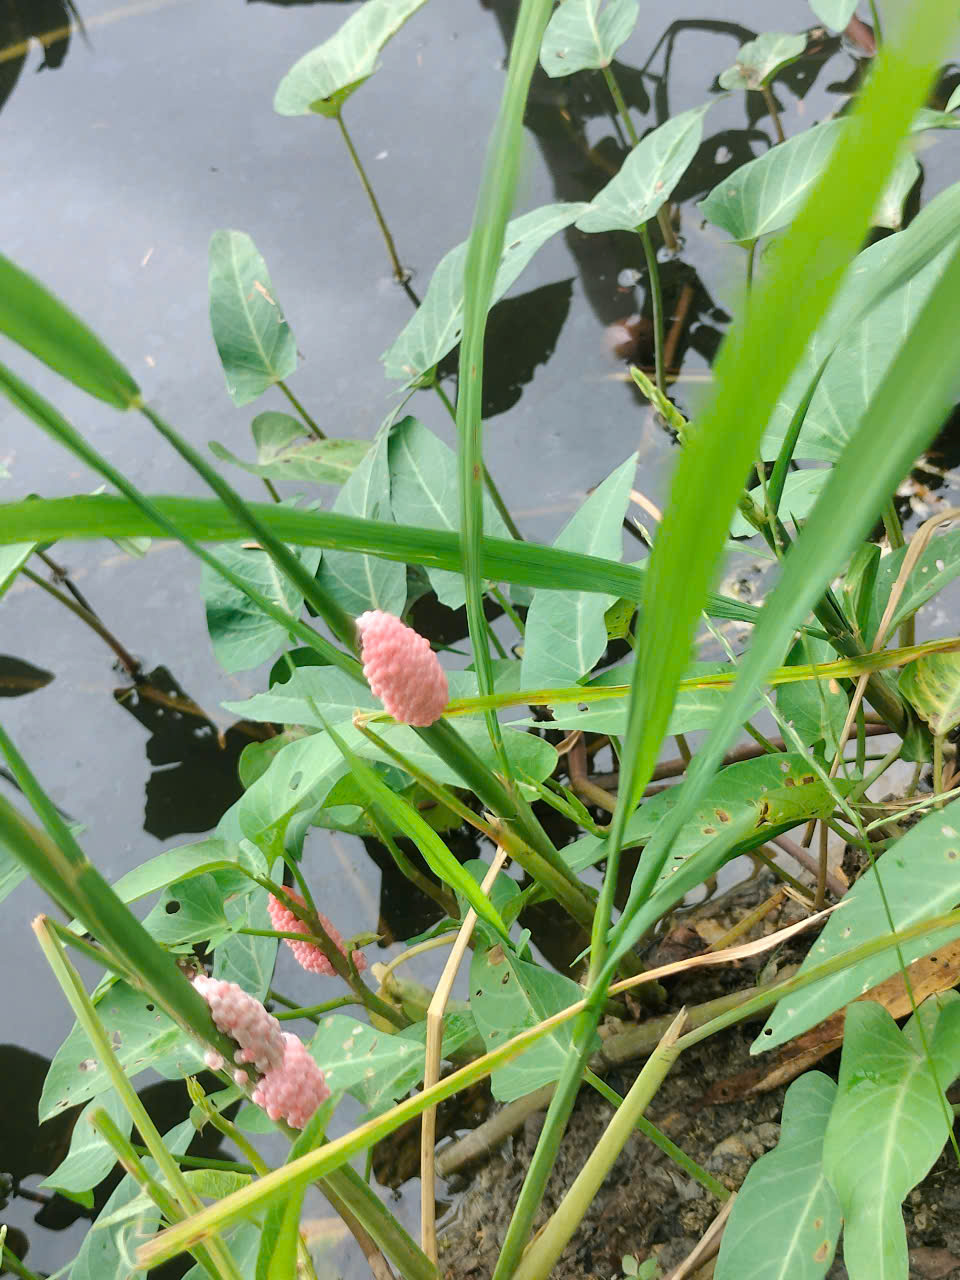trung_oc_buou_vang: (165, 890, 309, 1161), (303, 574, 459, 762)
